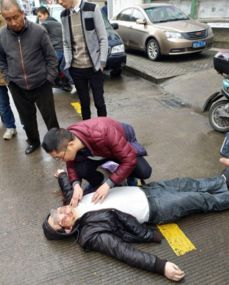fall: (32, 161, 227, 280)
